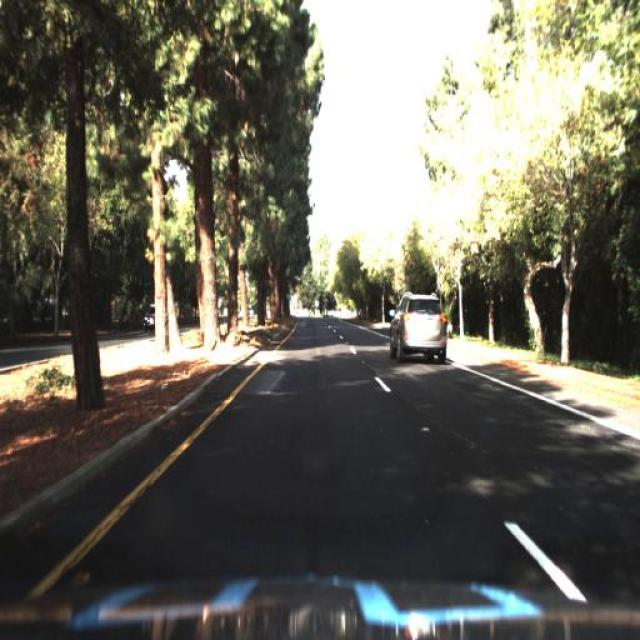car: (389, 290, 449, 366), (142, 300, 162, 336), (140, 304, 162, 332)
